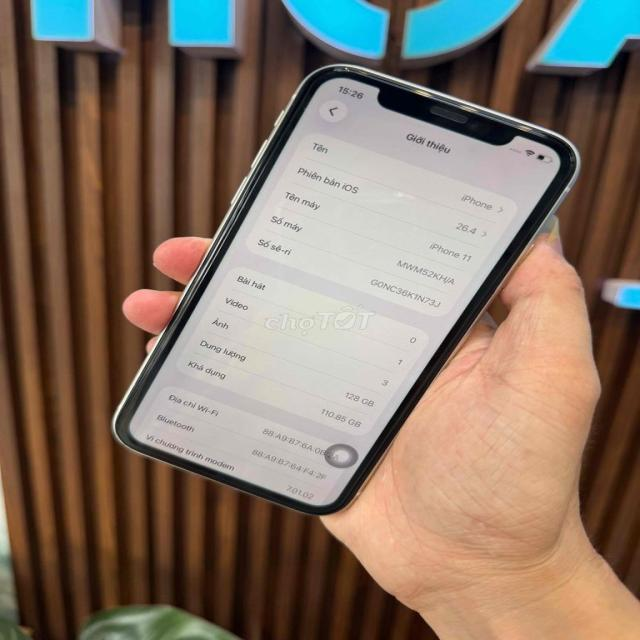gen_11: (112, 64, 578, 514)
